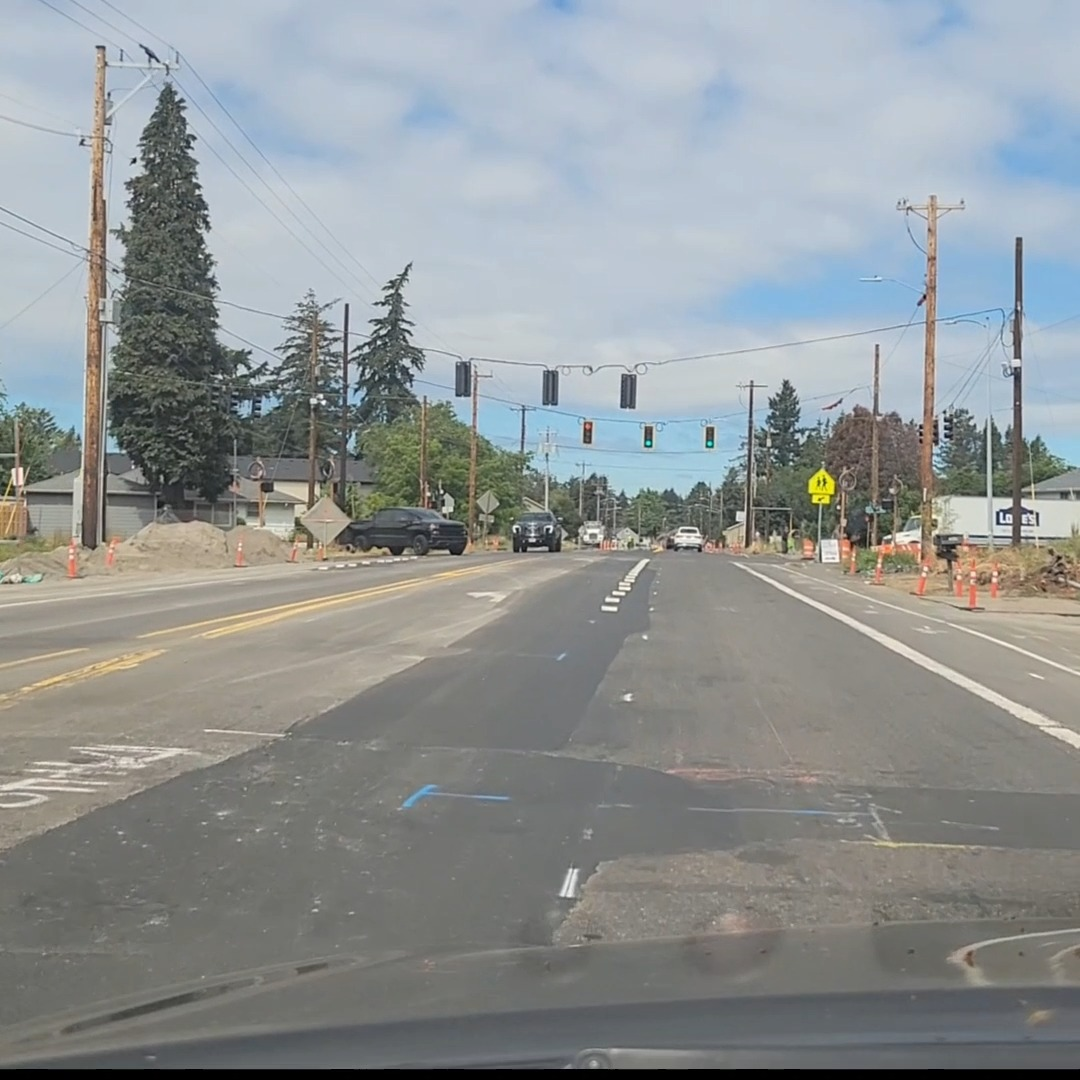car: (338, 507, 464, 555), (510, 511, 563, 552), (668, 526, 705, 552), (579, 520, 605, 547)
crosswalk-sign: (807, 469, 835, 505)
delineator: (66, 537, 79, 578), (967, 567, 978, 609), (872, 548, 885, 583), (916, 566, 928, 596), (233, 537, 245, 566), (953, 563, 963, 597), (289, 538, 301, 563), (989, 566, 998, 597), (105, 541, 115, 566), (849, 546, 857, 574), (315, 540, 325, 561)
